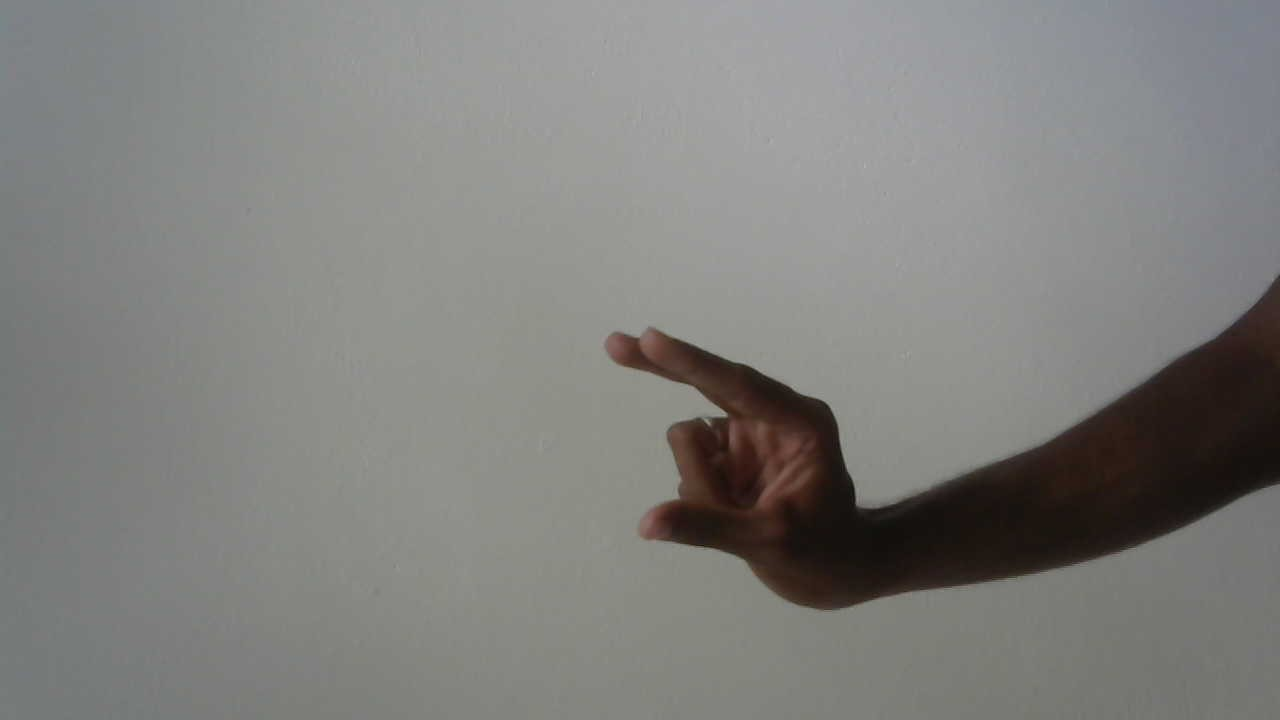no: (592, 301, 882, 636)
